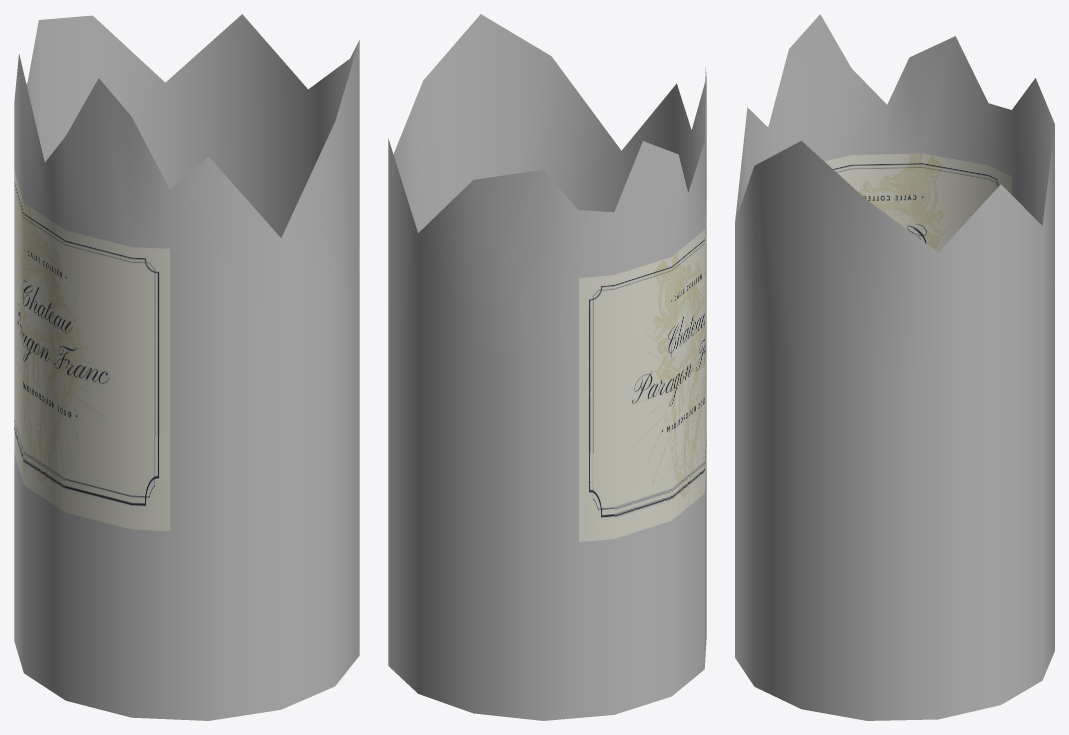
Rendered from BrokenWineGlass.fbx.
The picture shows the model from 3 angles, left to right: view 1: azimuth 30°, elevation 25°; view 2: azimuth 150°, elevation 25°; view 3: azimuth 270°, elevation 25°; orthographic projection. The views are drawn at different scales.
Parts seen in each view (by area): view 1: Cylinder.016; view 2: Cylinder.016; view 3: Cylinder.016.
Boxes of the visible parts, box(x1,y1,x2,y2) form: Cylinder.016: box(14, 14, 359, 720); Cylinder.016: box(388, 14, 706, 720); Cylinder.016: box(735, 14, 1054, 720).
Bounding box in the file's own units: 28.43 × 57.9 × 28.83.
